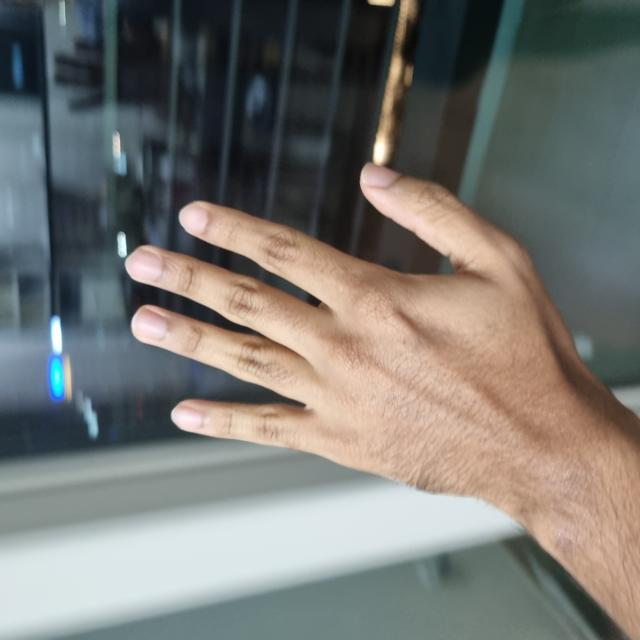Paper: (128, 127, 470, 592)
